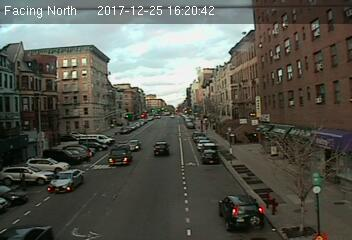car: (218, 194, 264, 230), (48, 168, 84, 193), (199, 149, 218, 166), (153, 141, 169, 157), (127, 140, 143, 151)
truck: (108, 144, 132, 166)
